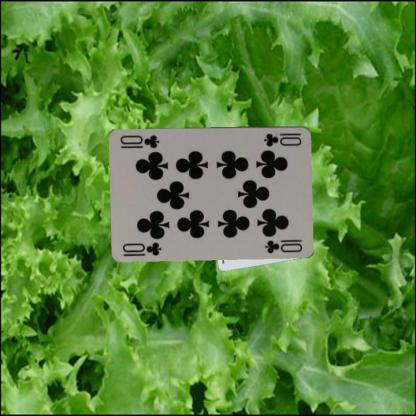10c: (120, 239, 164, 257), (261, 130, 303, 148)
